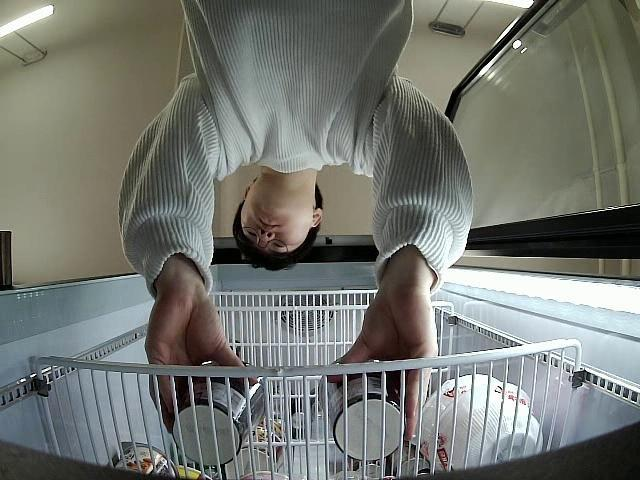08_buldak_S: (170, 362, 269, 468), (319, 360, 405, 459)
